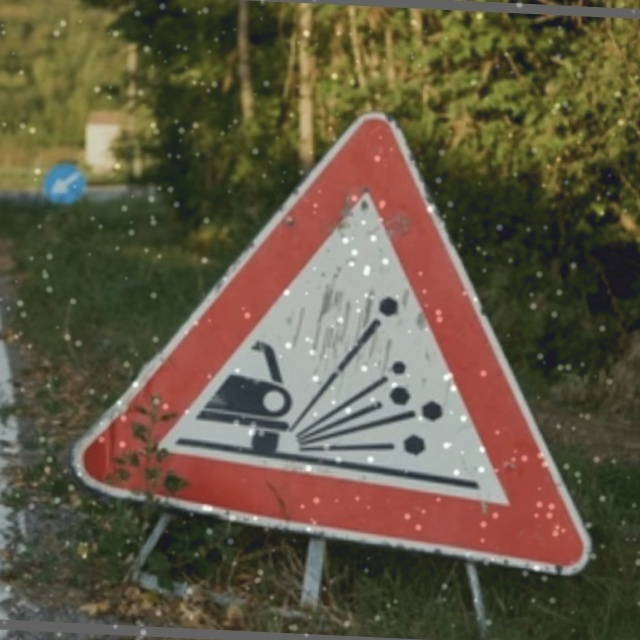Loose_Gravel: (91, 106, 576, 550)
